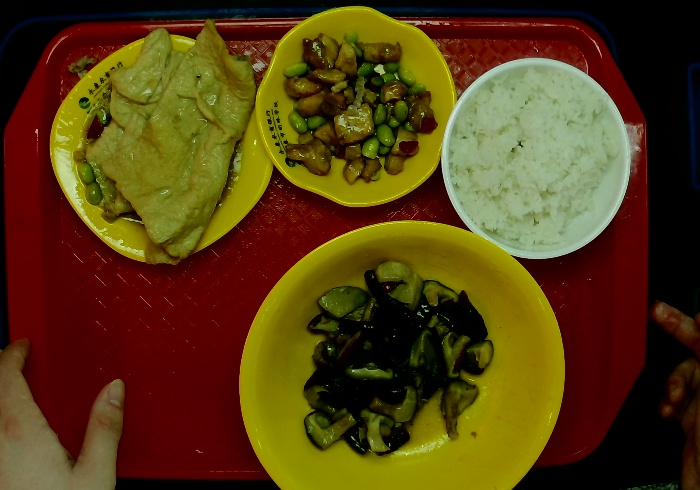YKMZ-Fan_Wan: (440, 54, 634, 262)
YKMZ-Huang_Se_Ao_Bian_Wan: (252, 3, 459, 211)
YKMZ-Huang_Se_Fang_Die: (45, 31, 278, 269)
YKMZ-Huang_Se_Tang_Wan: (236, 218, 567, 490)
